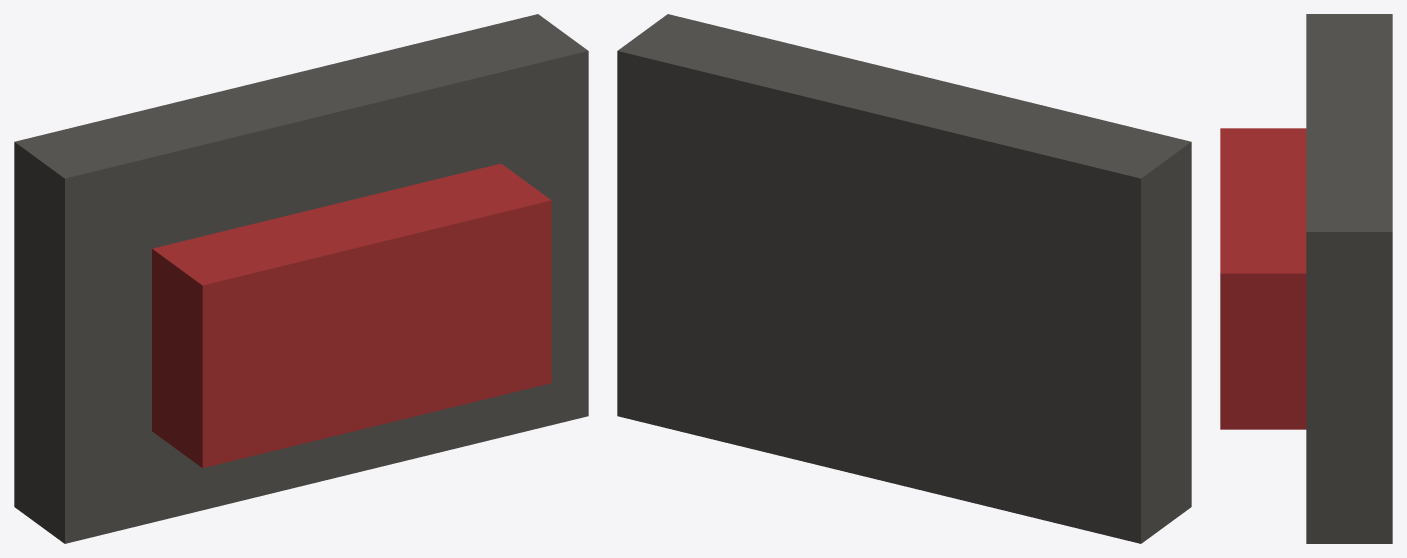
Rendered from Button.obj.
The picture shows the model from 3 angles, left to right: view 1: azimuth 30°, elevation 25°; view 2: azimuth 150°, elevation 25°; view 3: azimuth 270°, elevation 25°; orthographic projection. The views are drawn at different scales.
Bounding box in the file's own units: 6 × 4 × 2.
1 material, 1 textured.
